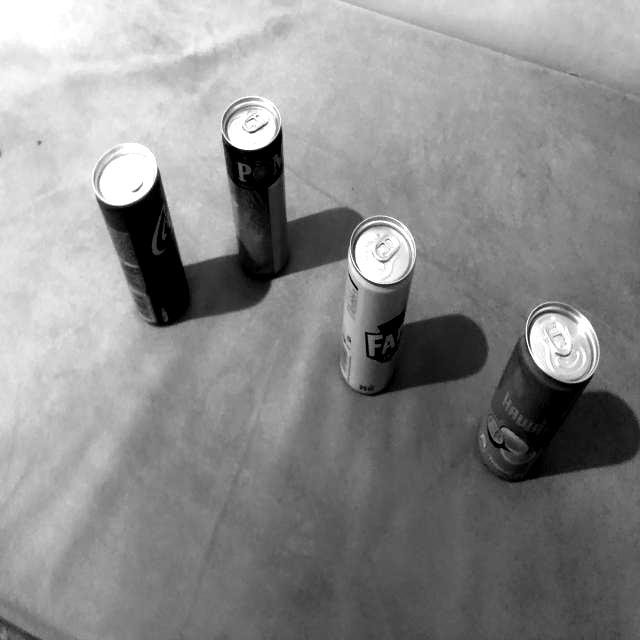metal: (468, 300, 604, 495), (79, 138, 197, 340), (333, 199, 419, 404), (216, 84, 300, 287)
